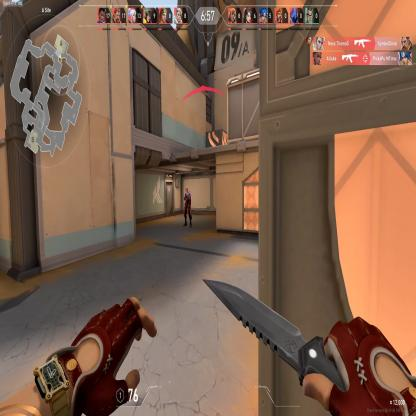enemy: (182, 185, 192, 228)
